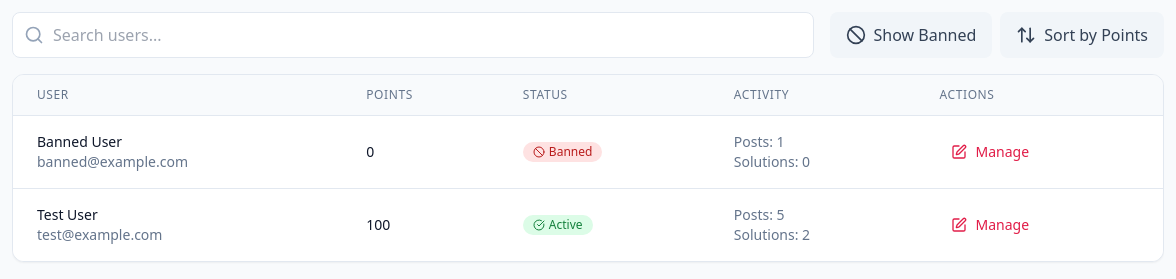
it: UserManagementTable › filters users by search
The image size is (1176, 279).
Type "banned" into the search field with placeholder "Search users...".
click(413, 35); type("banned")  # box [12,12,814,58]
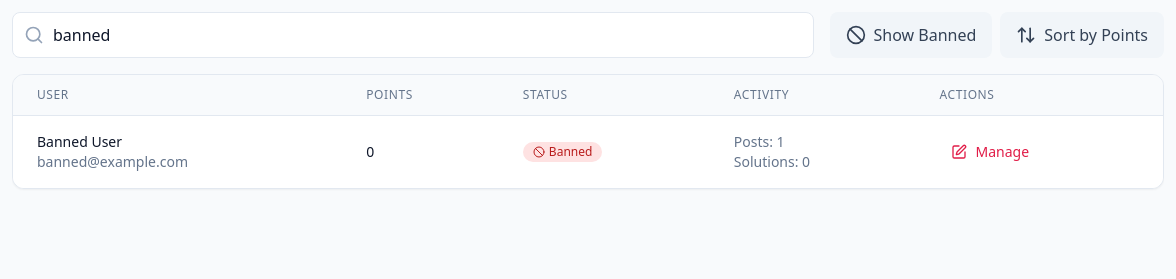
Expected: the text "Banned User" is shown, [37,132,122,151]
Expected: the text "Test User" is gone
